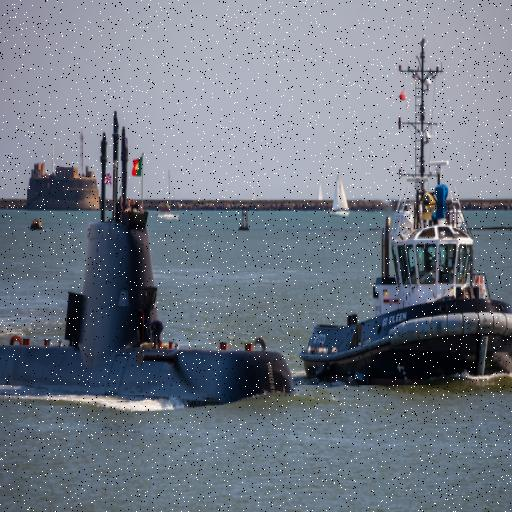submarine: (1, 110, 301, 402)
